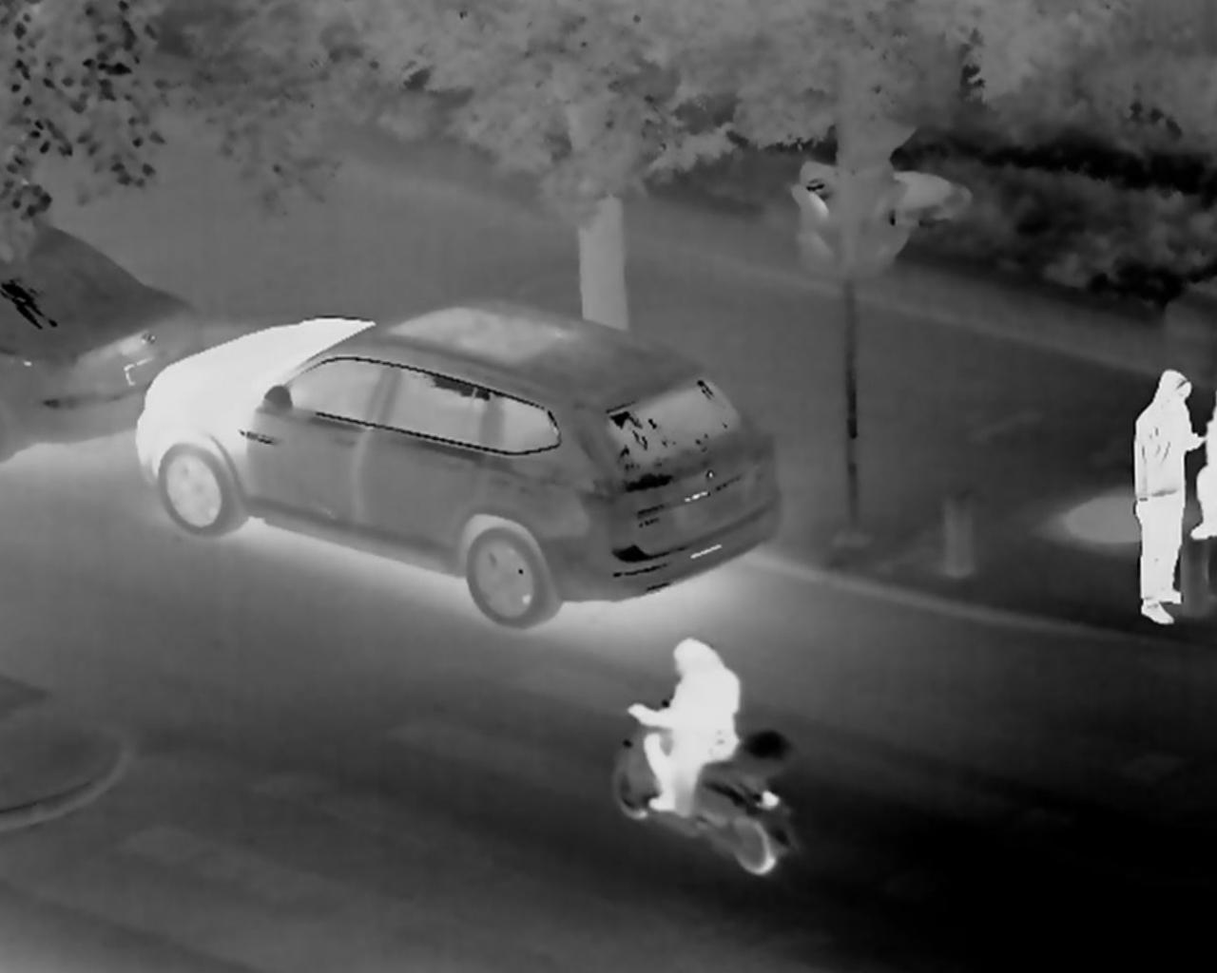person: (624, 630, 740, 821), (1124, 364, 1203, 627)
